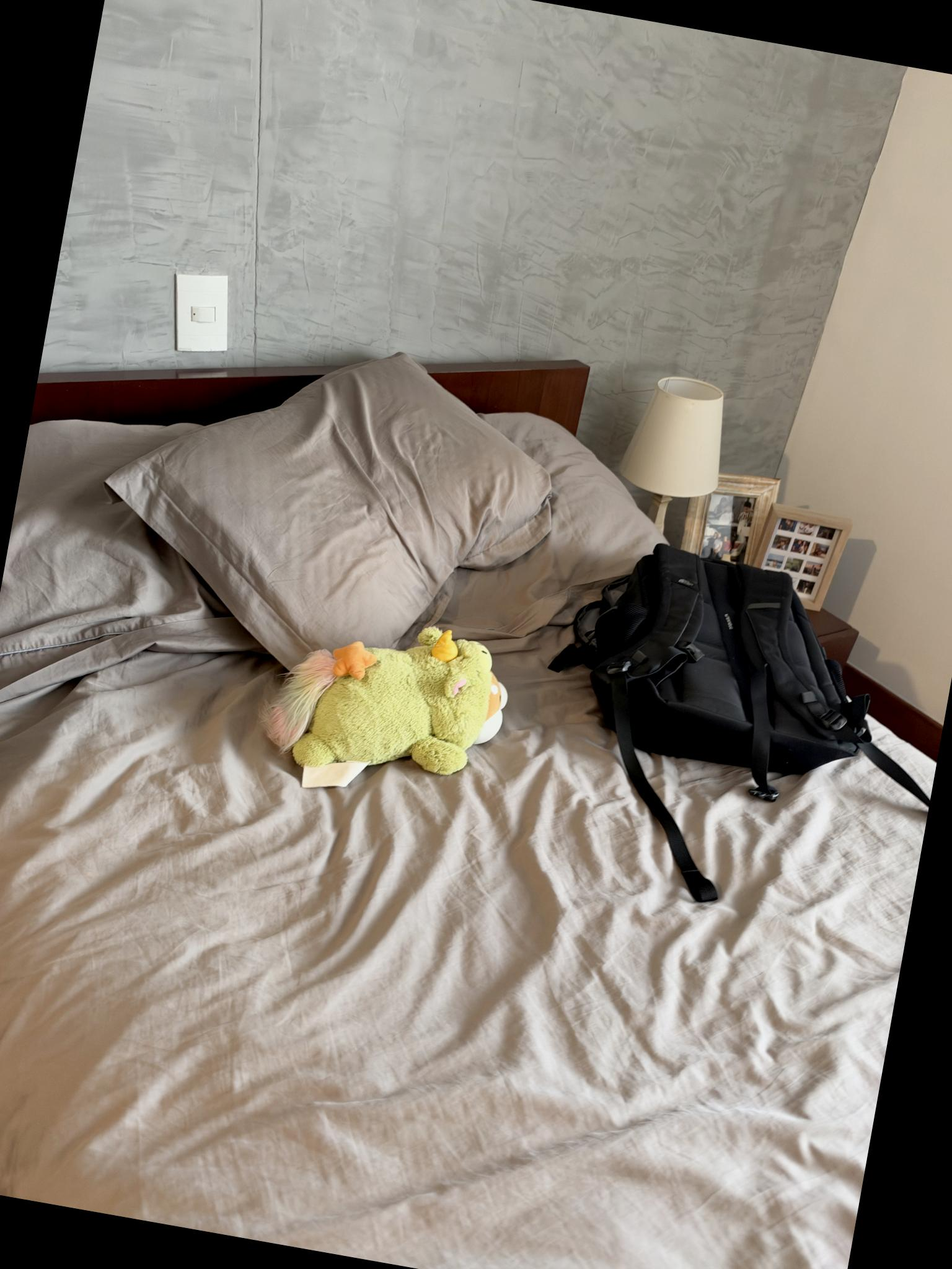peluche_martin: (253, 599, 518, 800)
